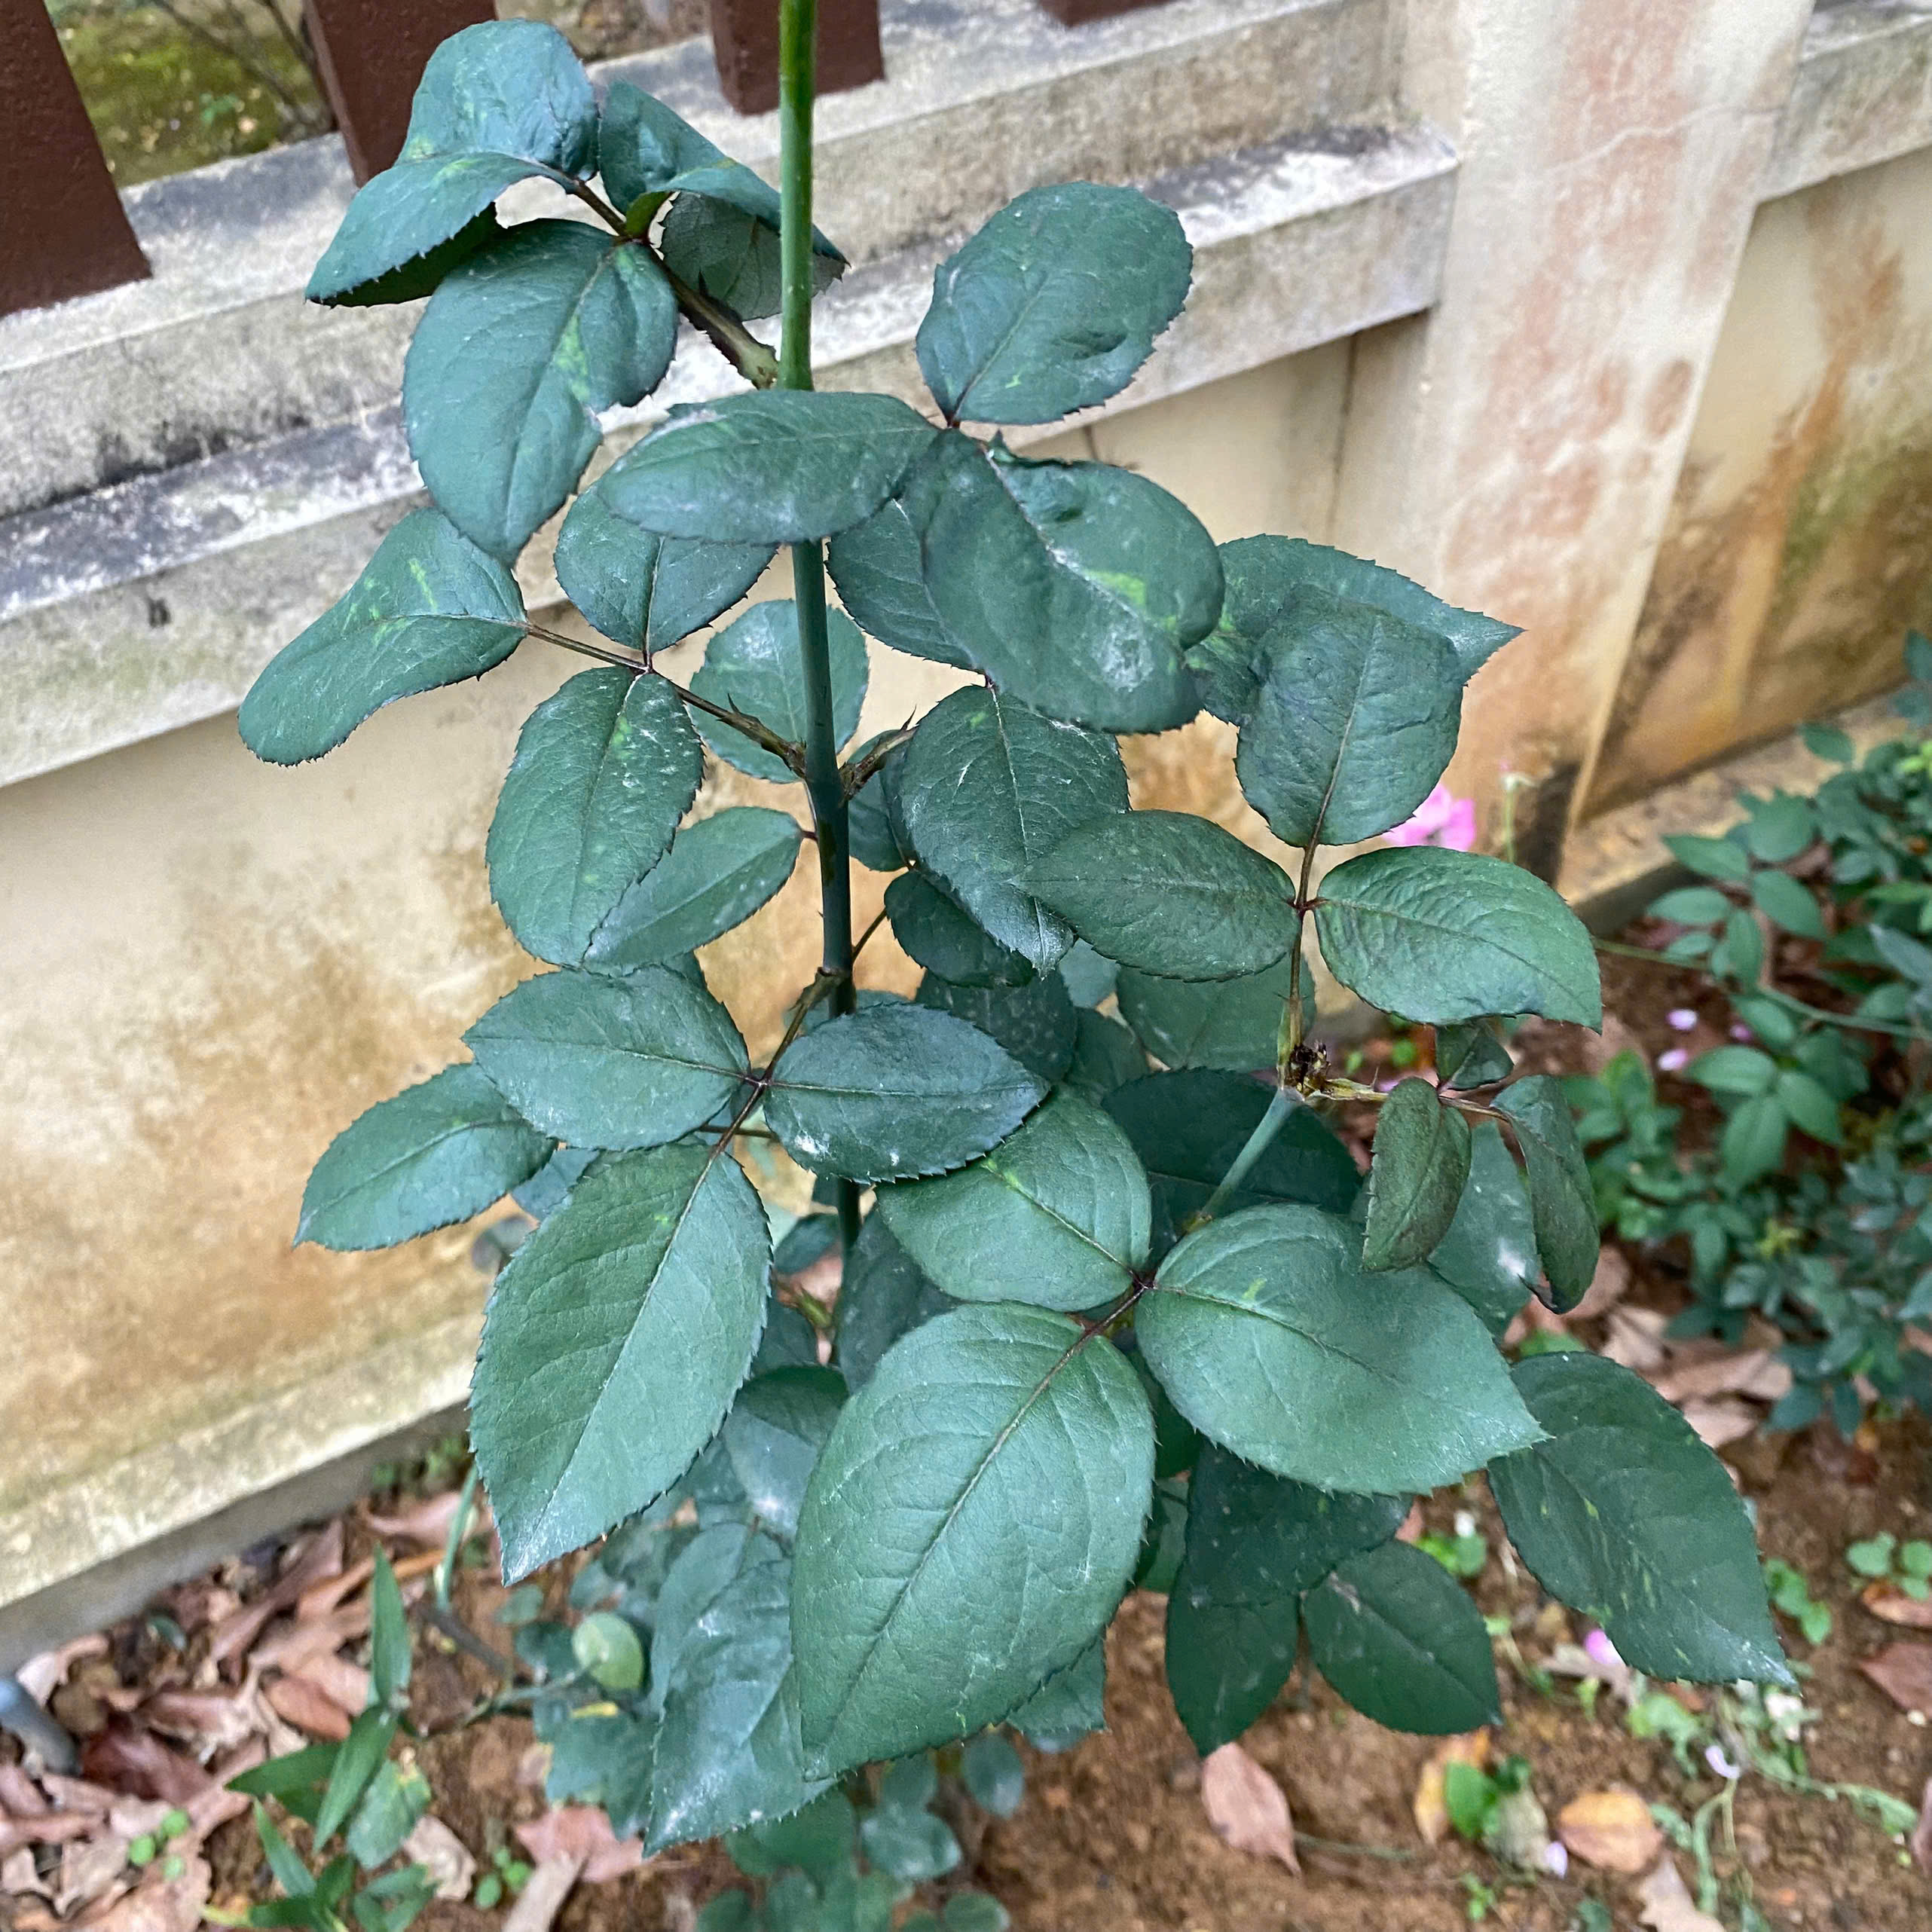hoa_hong_do: (172, 60, 1861, 1824)
